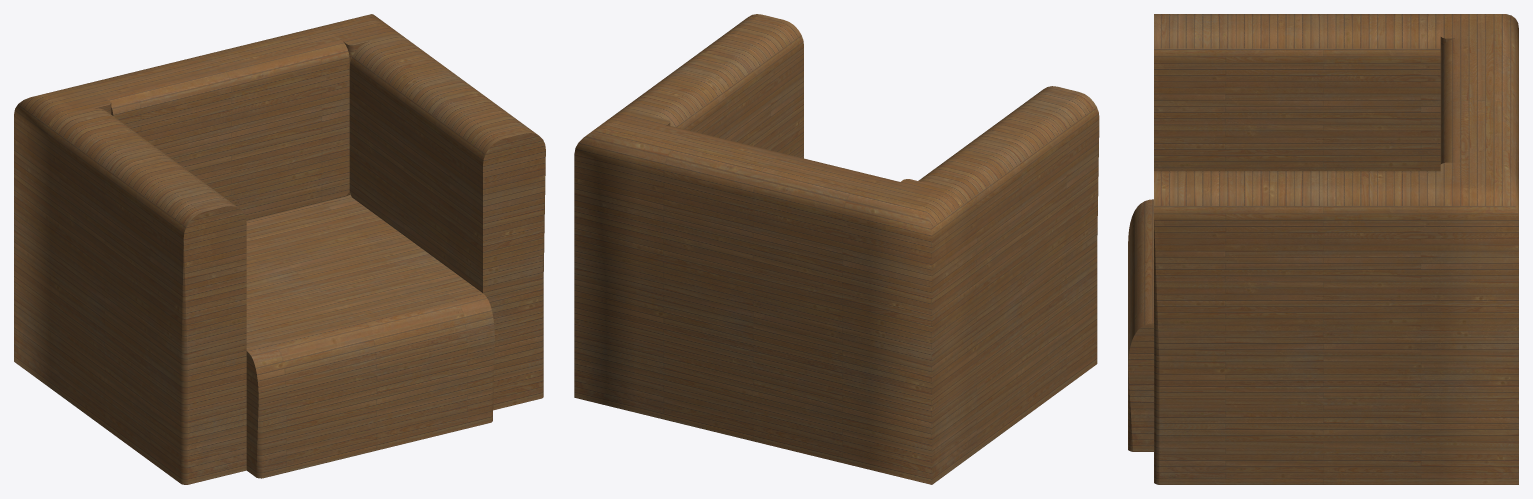
File: poltrona.fbx
3 renders of one model, left to right at view 1: azimuth 30°, elevation 25°; view 2: azimuth 150°, elevation 25°; view 3: azimuth 270°, elevation 25°, orthographic. The views are drawn at different scales.
Visible parts, largest first — view 1: Box001; view 2: Box001; view 3: Box001.
Boxes of the visible parts, x1=… form: Box001: x1=14, y1=14, x2=545, y2=484; Box001: x1=574, y1=14, x2=1099, y2=484; Box001: x1=1128, y1=14, x2=1518, y2=484.
Bounding box in the file's own units: 86.29 × 61.23 × 75.
